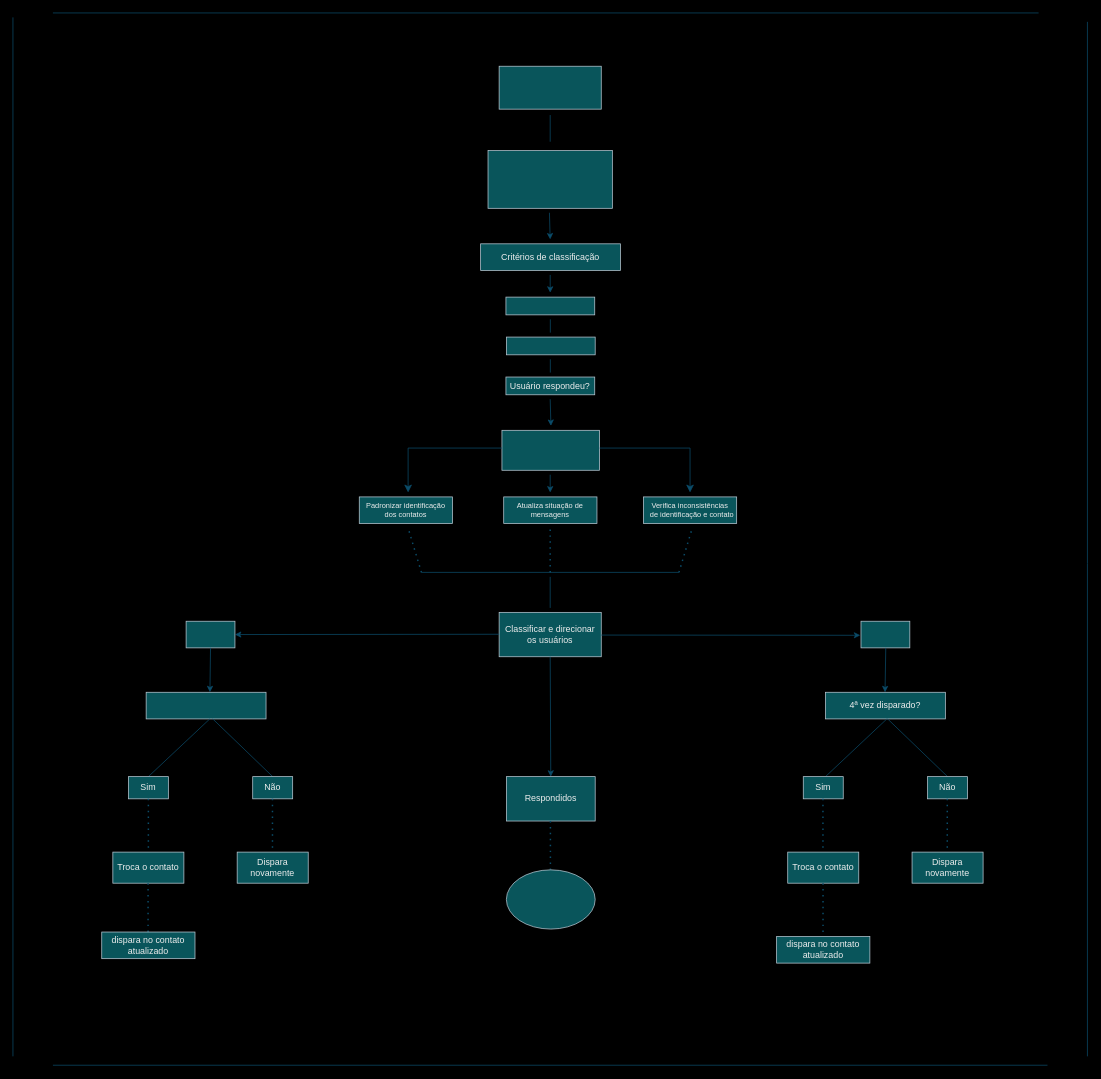
Image size: 1101x1079. Some labels were removed from this diagram. The box of each missing label's shape, as (x1, y1, x2, y2) in pixels:
2ª vez e não respondido?: (145, 692, 266, 719)
Atualizar relatório inicial seguindo as regras do processo: (487, 150, 612, 208)
Atualizar situação dos contatos com base no retorno das mensagens: (501, 430, 600, 470)
Inicio: (498, 65, 601, 109)
Lido: (185, 620, 235, 648)
Não lido: (860, 620, 910, 648)
Usuarios resolvidos (Encerrado): (506, 869, 595, 929)
Usuário duplicado?: (506, 336, 595, 355)
Usuário foi lido?: (505, 296, 595, 315)
